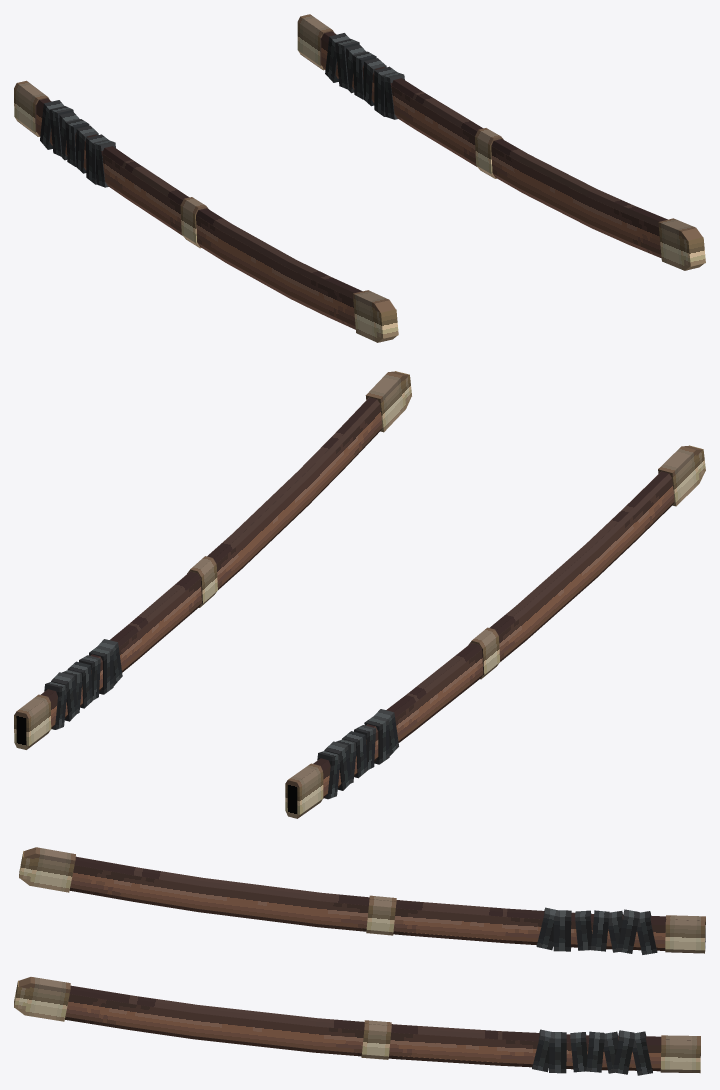
Rendered from phantom_katana_sheath.glb.
3 renders of one model, top to bottom at view 1: azimuth 30°, elevation 25°; view 2: azimuth 150°, elevation 25°; view 3: azimuth 270°, elevation 25°, orthographic. The views are drawn at different scales.
Parts seen in each view (by area): view 1: main__Tool_R, off__Tool_L; view 2: off__Tool_L, main__Tool_R; view 3: off__Tool_L, main__Tool_R.
Part boxes in pixels (x1,y1,x2,y2): main__Tool_R: (297,14,705,270); off__Tool_L: (14,80,398,342); off__Tool_L: (285,445,705,818); main__Tool_R: (14,371,411,749); off__Tool_L: (19,847,705,954); main__Tool_R: (14,977,700,1075).
Size of the model in its own units: 0.8092 by 0.2564 by 1.74.
1 material, 1 textured.
